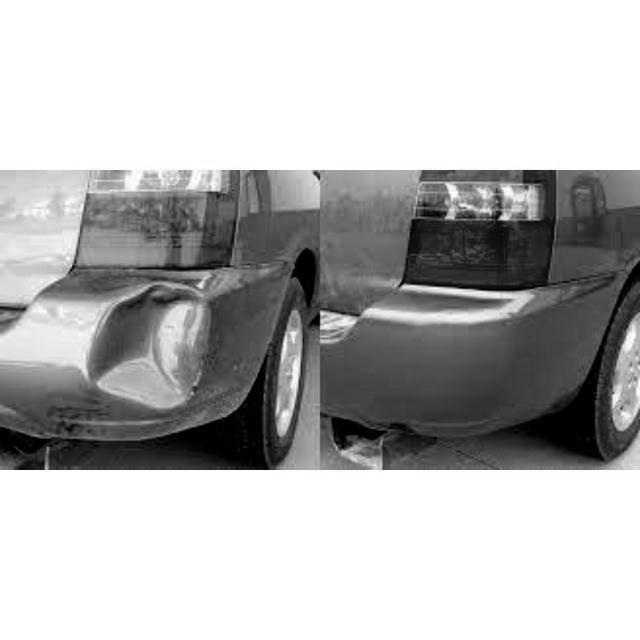rear-bumper-dent: (55, 256, 285, 414)
